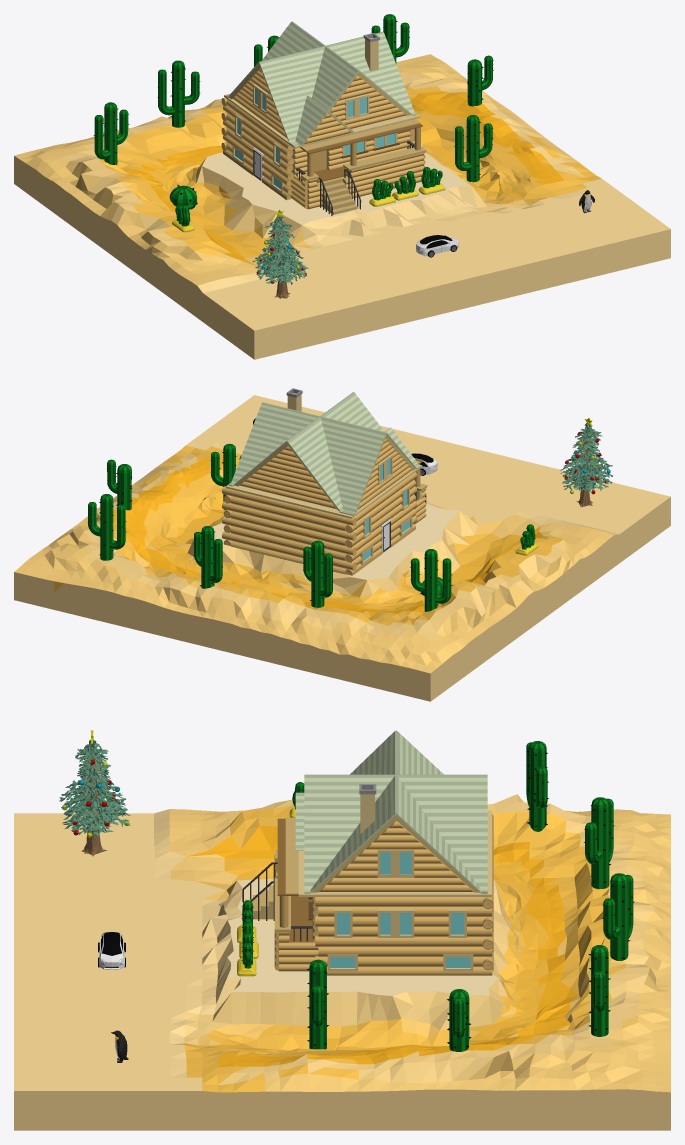
The picture shows the model from 3 angles, top to bottom: view 1: azimuth 30°, elevation 25°; view 2: azimuth 150°, elevation 25°; view 3: azimuth 270°, elevation 25°; orthographic projection. The views are drawn at different scales.
Visible parts, largest first — view 1: Cube.001, Cube.1516, OBJRANDOM_CHRISTMAS_TREE, Cylinder.037, Cylinder.044, Cylinder.045, Cylinder.038, Cylinder.042, VEHICLES_TESLA, Cylinder.039, Cylinder.041, Sphere.023 (+1 smaller); view 2: Cube.001, Cube.1516, OBJRANDOM_CHRISTMAS_TREE, Cylinder.042, Cylinder.045, Cylinder.044, Cylinder.043, Cylinder.038, Cylinder.037; view 3: Cube.001, Cube.1516, OBJRANDOM_CHRISTMAS_TREE, Cylinder.043, Cylinder.044, Cylinder.045, Cylinder.042, Cylinder.037, Cylinder.038, VEHICLES_TESLA, Cylinder.041.
Part boxes in pixels (left/top/right/bottom): Cube.001: left=14, top=54, right=670, bottom=359; Cube.1516: left=221, top=21, right=426, bottom=215; OBJRANDOM_CHRISTMAS_TREE: left=252, top=210, right=308, bottom=298; Cylinder.037: left=454, top=115, right=493, bottom=182; Cylinder.044: left=157, top=60, right=200, bottom=127; Cylinder.045: left=93, top=102, right=129, bottom=164; Cylinder.038: left=467, top=55, right=493, bottom=106; Cylinder.042: left=371, top=14, right=409, bottom=63; VEHICLES_TESLA: left=416, top=235, right=459, bottom=257; Cylinder.039: left=369, top=179, right=395, bottom=206; Cylinder.041: left=418, top=167, right=445, bottom=194; Sphere.023: left=169, top=184, right=197, bottom=209; Cube.001: left=14, top=395, right=670, bottom=701; Cube.1516: left=222, top=388, right=427, bottom=575; OBJRANDOM_CHRISTMAS_TREE: left=560, top=417, right=613, bottom=507; Cylinder.042: left=88, top=494, right=126, bottom=560; Cylinder.045: left=410, top=549, right=452, bottom=611; Cylinder.044: left=303, top=540, right=333, bottom=607; Cylinder.043: left=193, top=526, right=222, bottom=588; Cylinder.038: left=107, top=459, right=131, bottom=510; Cylinder.037: left=210, top=443, right=241, bottom=510; Cube.001: left=14, top=794, right=670, bottom=1130; Cube.1516: left=242, top=730, right=493, bottom=975; OBJRANDOM_CHRISTMAS_TREE: left=59, top=730, right=130, bottom=856; Cylinder.043: left=602, top=873, right=634, bottom=960; Cylinder.044: left=584, top=797, right=614, bottom=888; Cylinder.045: left=526, top=741, right=548, bottom=831; Cylinder.042: left=588, top=945, right=610, bottom=1036; Cylinder.037: left=307, top=959, right=328, bottom=1049; Cylinder.038: left=447, top=989, right=471, bottom=1051; VEHICLES_TESLA: left=98, top=932, right=125, bottom=969; Cylinder.041: left=237, top=933, right=256, bottom=976.
Bounding box in the file's own units: 4002 × 1627 × 4001.
39 materials, 3 textured.
